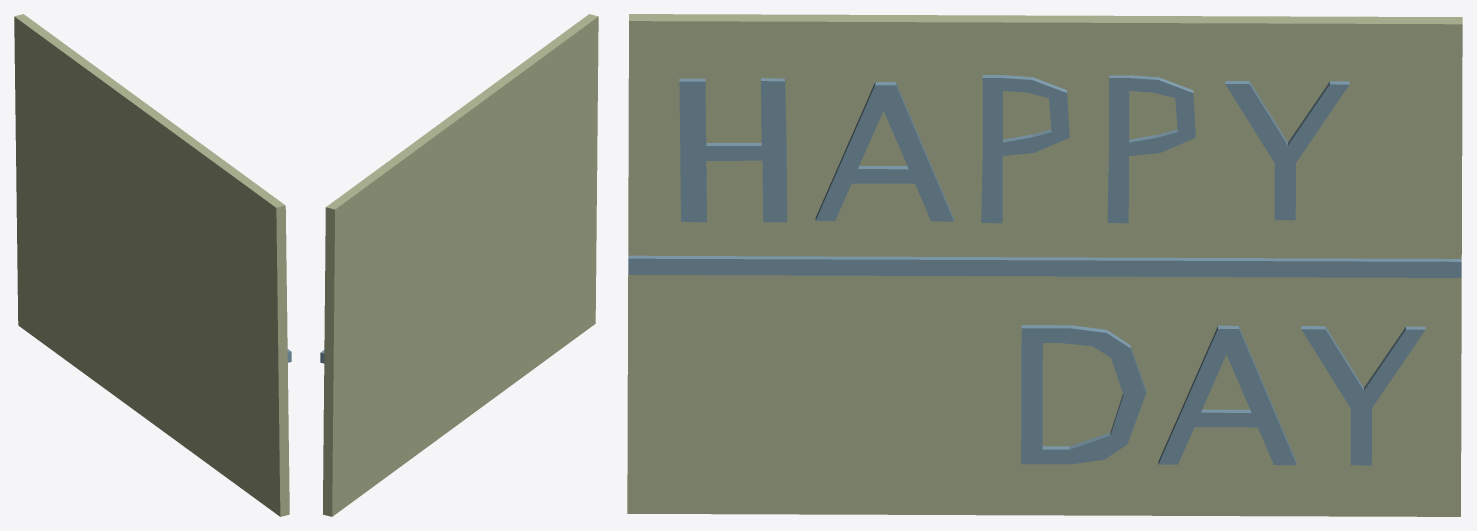
File: Picture_7.fbx
3 renders of one model, left to right at view 1: azimuth 30°, elevation 25°; view 2: azimuth 150°, elevation 25°; view 3: azimuth 270°, elevation 25°, orthographic. The views are drawn at different scales.
Parts seen in each view (by area): view 1: Picture_7; view 2: Picture_7; view 3: Picture_7.
Part boxes in pixels (left/top/right/bottom): Picture_7: left=14, top=14, right=291, bottom=516; Picture_7: left=320, top=14, right=598, bottom=516; Picture_7: left=627, top=14, right=1462, bottom=516.
Bounding box in the file's own units: 3 × 77.24 × 50.26.
